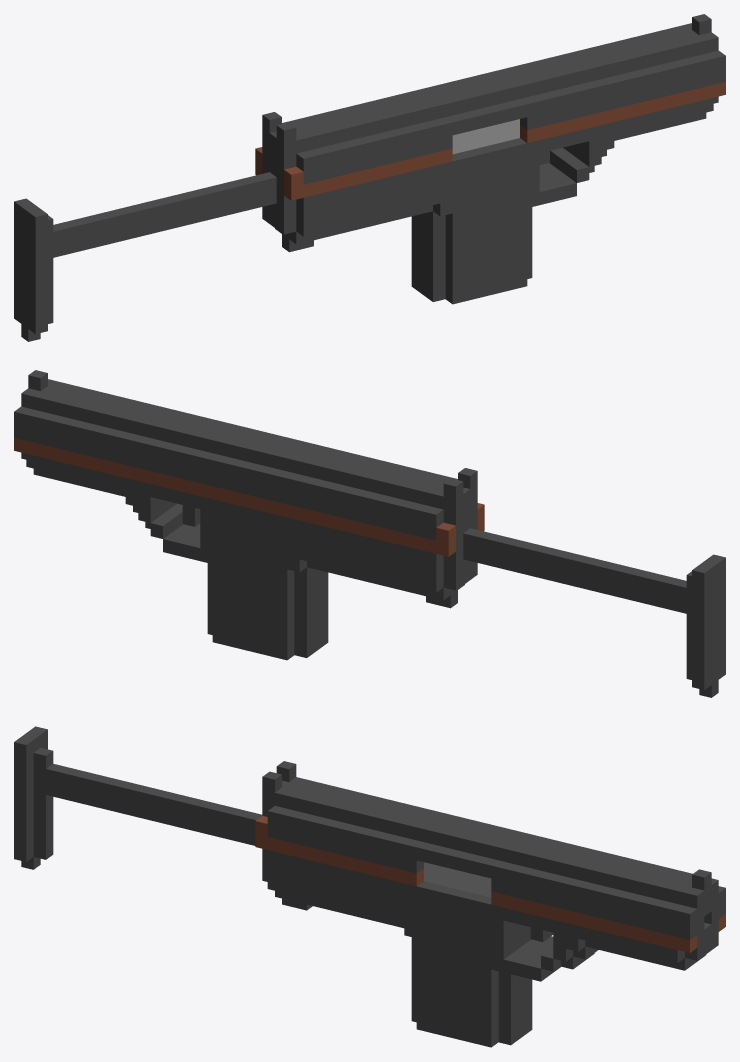
The model's file is ppgun.obj.
3 views of the same model, one above another, from view 1: azimuth 30°, elevation 25°; view 2: azimuth 150°, elevation 25°; view 3: azimuth 330°, elevation 25° (orthographic).
Bounding box in the file's own units: 5.5 × 1.6 × 0.5.
Materials: 1 (1 with a texture image).
